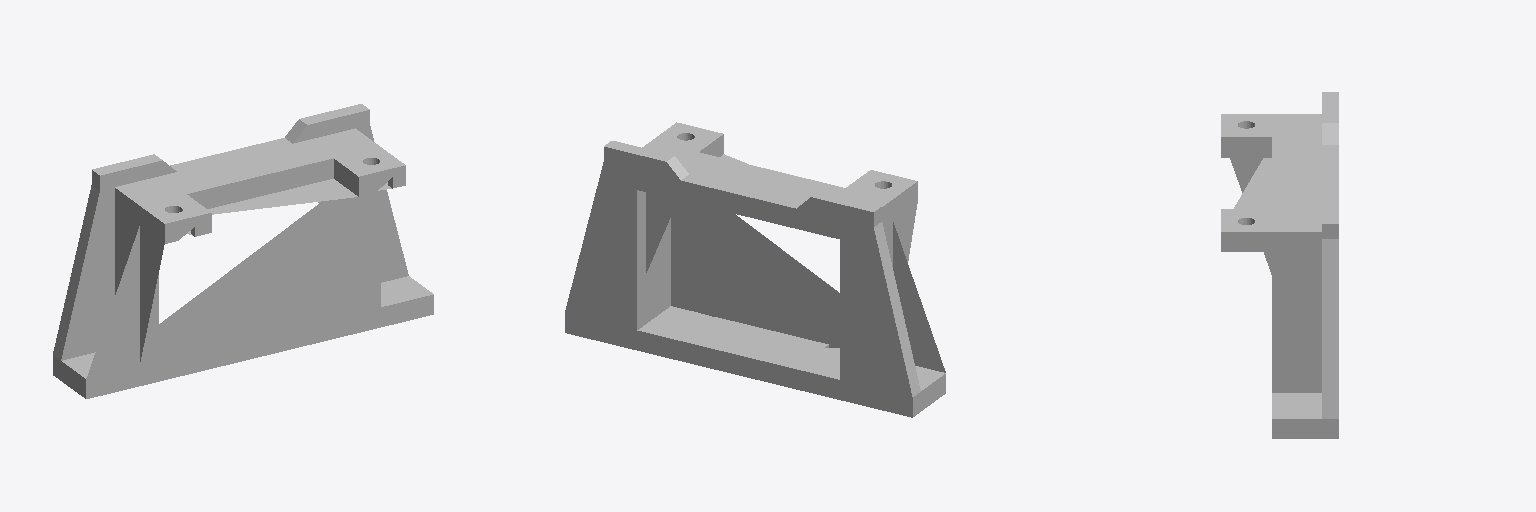
The model's file is RS_SubFrame_v1.obj.
The picture shows the model from 3 angles: view 1: azimuth 30°, elevation 25°; view 2: azimuth 150°, elevation 25°; view 3: azimuth 270°, elevation 25°; orthographic projection.
Visible parts, largest first — view 1: Mesh1 Group1 Model; view 2: Mesh1 Group1 Model; view 3: Mesh1 Group1 Model.
Boxes of the visible parts, <box> form: Mesh1 Group1 Model: <box>53,104,433,398</box>; Mesh1 Group1 Model: <box>565,122,945,417</box>; Mesh1 Group1 Model: <box>1221,92,1338,438</box>.
Bounding box in the file's own units: 72 × 38.75 × 21.